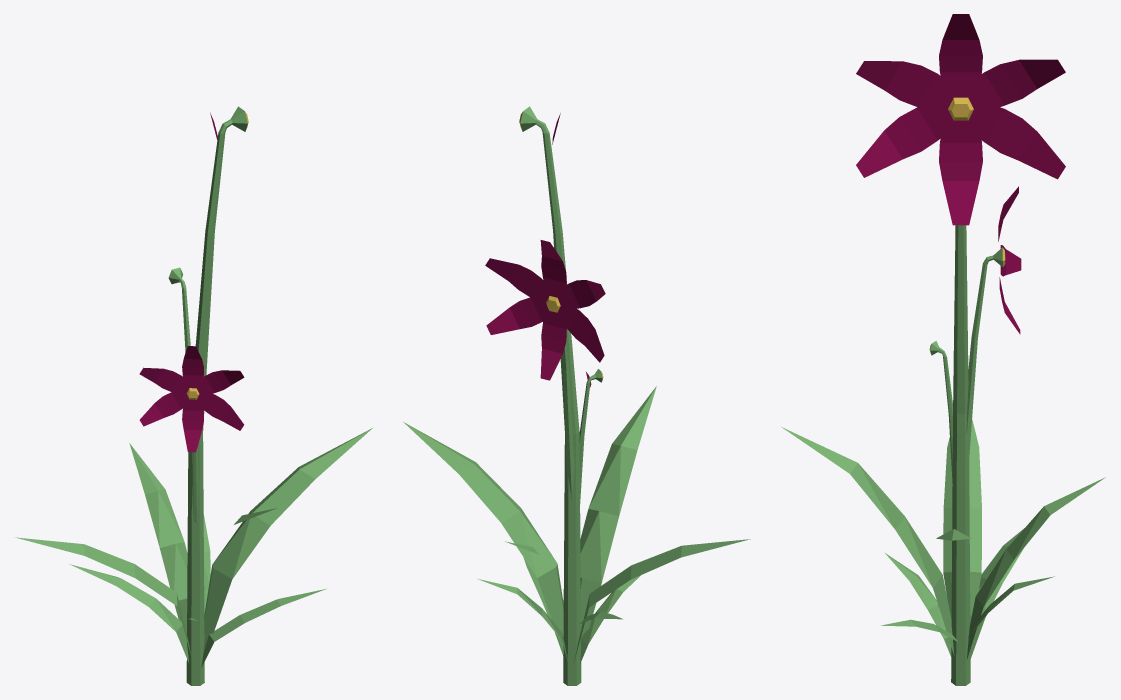
File: Flowers.glb
3 views of the same model, side by side, from view 1: azimuth 30°, elevation 25°; view 2: azimuth 150°, elevation 25°; view 3: azimuth 270°, elevation 25° (orthographic). The views are drawn at different scales.
Visible parts, largest first — view 1: Flowers; view 2: Flowers; view 3: Flowers.
Part boxes in pixels (<box>): Flowers: <box>15,106,372,685</box>; Flowers: <box>403,106,750,685</box>; Flowers: <box>781,14,1105,685</box>.
Bounding box in the file's own units: 0.226 × 0.3962 × 0.167.
Materials: 1 (1 with a texture image).
